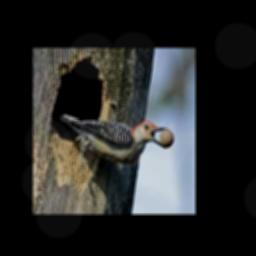Woodpecker: (59, 112, 169, 164)
